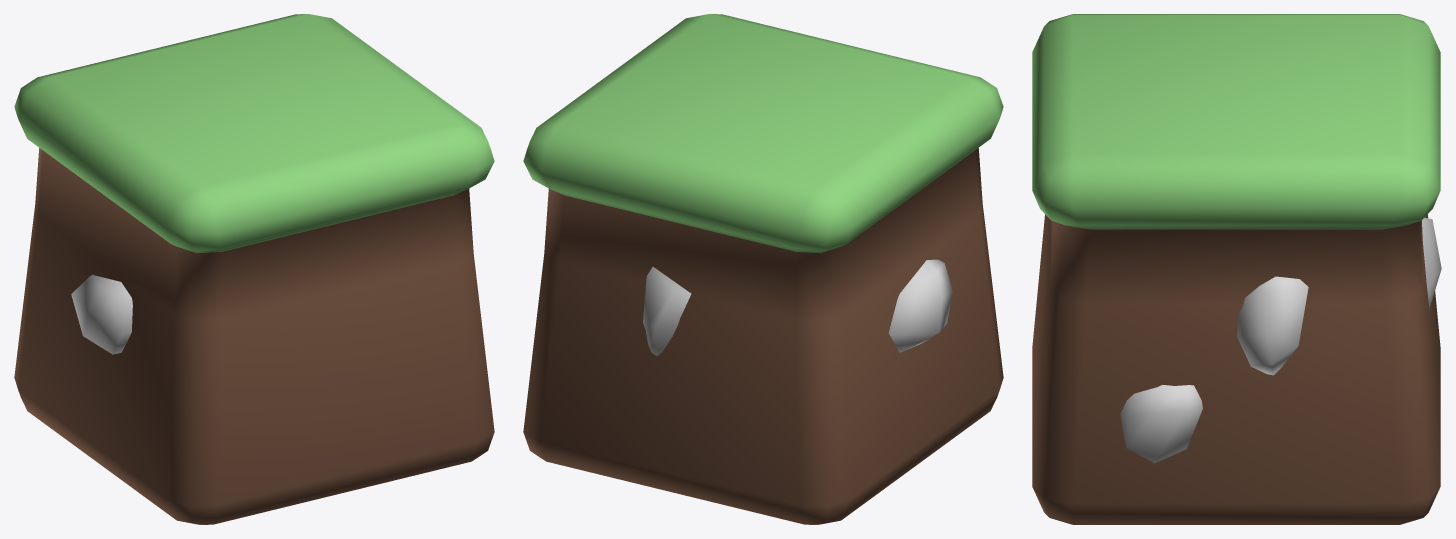
File: Block_Earth.fbx
3 renders of one model, left to right at view 1: azimuth 30°, elevation 25°; view 2: azimuth 150°, elevation 25°; view 3: azimuth 270°, elevation 25°, orthographic. The views are drawn at different scales.
Parts seen in each view (by area): view 1: Earth; view 2: Earth; view 3: Earth.
Boxes of the visible parts, x1,y1,x2,y2 form: Earth: (14, 14, 494, 524); Earth: (523, 14, 1003, 524); Earth: (1032, 14, 1441, 524).
Bounding box in the file's own units: 108 × 100 × 100.
